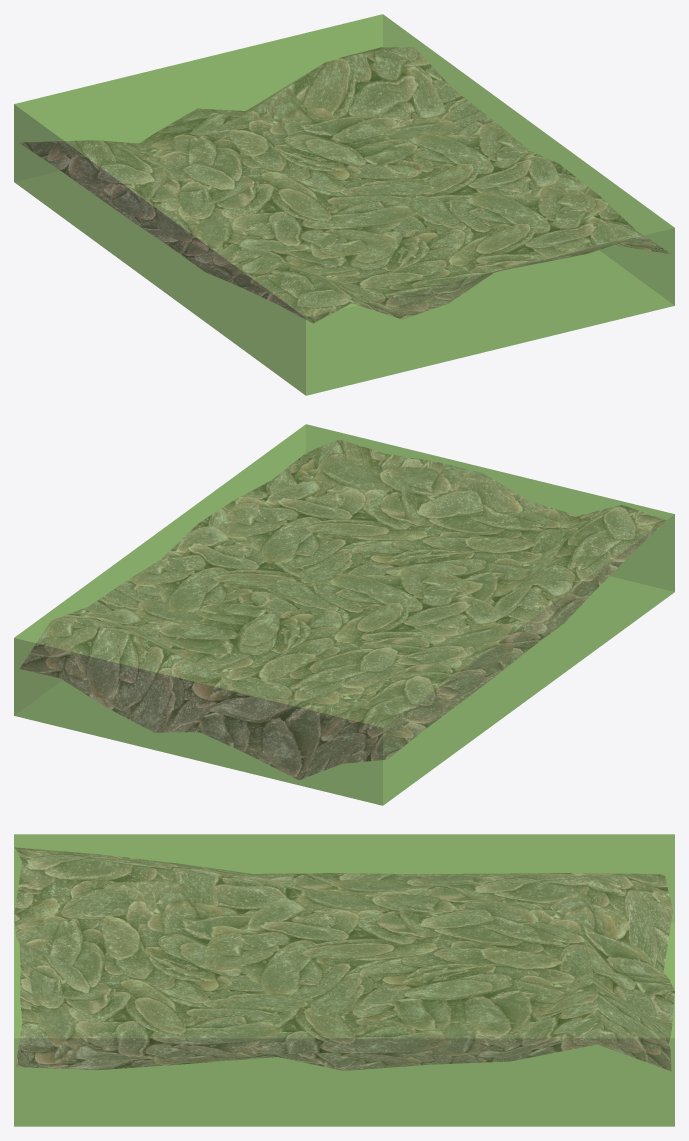
Rendered from pg_dried_fruit_02_a.fbx.
The picture shows the model from 3 angles, top to bottom: view 1: azimuth 30°, elevation 25°; view 2: azimuth 150°, elevation 25°; view 3: azimuth 270°, elevation 25°; orthographic projection. The views are drawn at different scales.
Visible parts, largest first — view 1: pg_dried_fruit_02_a_col, pg_dried_fruit_02_a_LOD0; view 2: pg_dried_fruit_02_a_col, pg_dried_fruit_02_a_LOD0; view 3: pg_dried_fruit_02_a_col, pg_dried_fruit_02_a_LOD0.
Boxes of the visible parts, x1,y1,x2,y2 form: pg_dried_fruit_02_a_col: (14,14,674,395); pg_dried_fruit_02_a_LOD0: (19,47,670,323); pg_dried_fruit_02_a_col: (14,424,674,805); pg_dried_fruit_02_a_LOD0: (19,439,666,779); pg_dried_fruit_02_a_col: (14,834,674,1126); pg_dried_fruit_02_a_LOD0: (14,847,674,1071).
Size of what is drawn, in the model's own units: 30.48 by 6.15 by 41.78.
